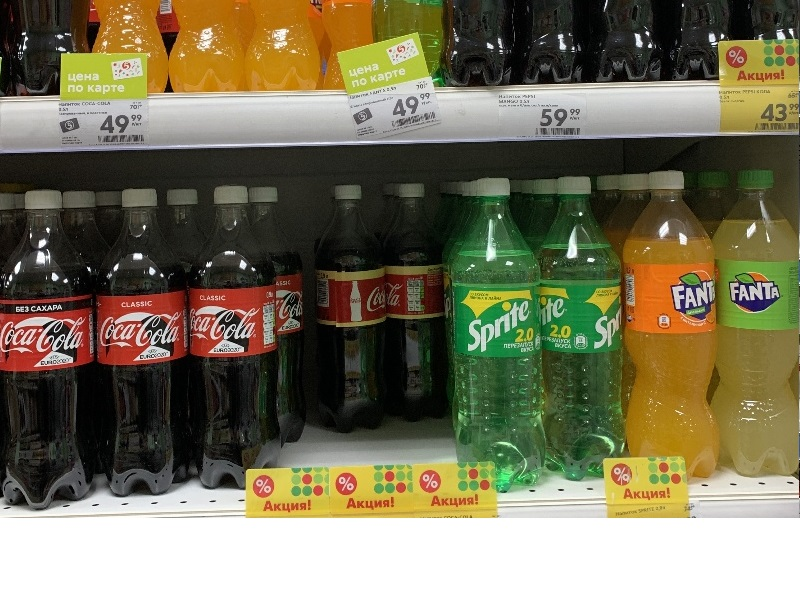lemonade: (441, 174, 555, 498), (613, 165, 731, 468), (178, 185, 290, 494), (529, 176, 637, 492), (92, 187, 198, 505), (1, 188, 102, 519), (711, 168, 795, 475), (302, 181, 395, 442)
